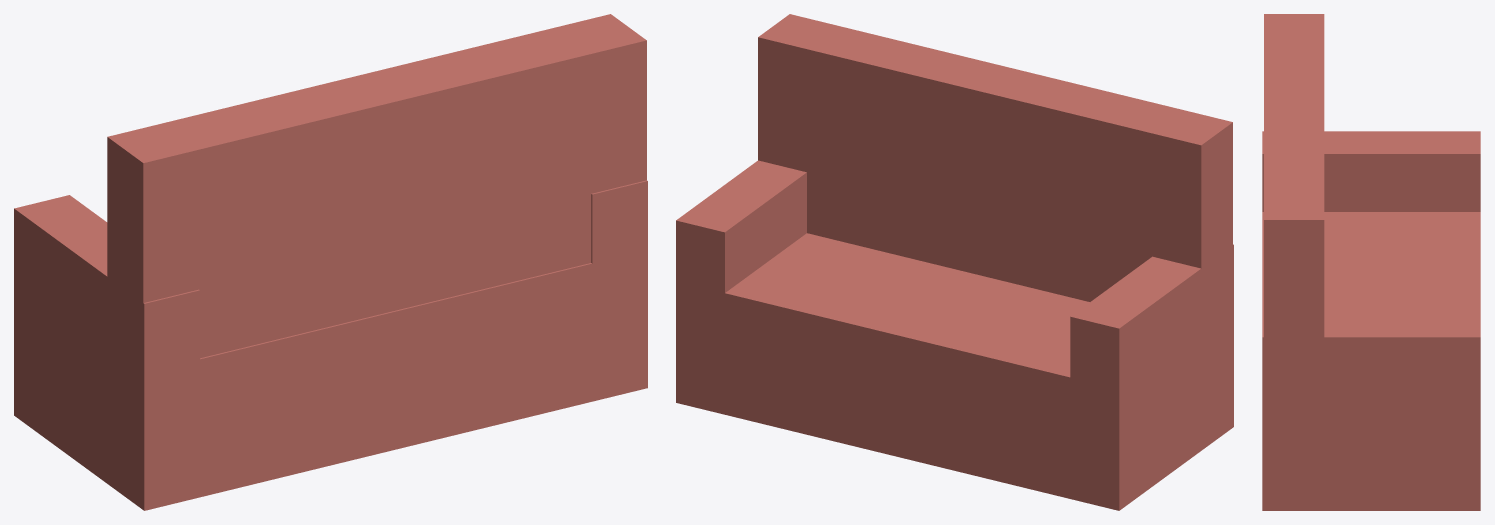
File: couch_03.glb
3 renders of one model, left to right at view 1: azimuth 30°, elevation 25°; view 2: azimuth 150°, elevation 25°; view 3: azimuth 270°, elevation 25°, orthographic. The views are drawn at different scales.
Visible parts, largest first — view 1: back, base, arm-1, arm1; view 2: back, base, arm-1, arm1; view 3: base, arm1, back, arm-1.
Part boxes in pixels (bbox=[...]): back: bbox=[107, 14, 646, 371]; base: bbox=[14, 250, 647, 510]; arm-1: bbox=[14, 195, 199, 474]; arm1: bbox=[591, 180, 647, 368]; back: bbox=[758, 14, 1232, 301]; base: bbox=[676, 233, 1233, 510]; arm-1: bbox=[1070, 244, 1233, 481]; arm1: bbox=[676, 160, 806, 385]; base: bbox=[1262, 212, 1480, 510]; arm1: bbox=[1262, 314, 1480, 483]; back: bbox=[1264, 14, 1324, 417]; arm-1: bbox=[1262, 131, 1480, 211].
Bounding box in the file's own units: 1.45 × 0.955 × 0.65.
